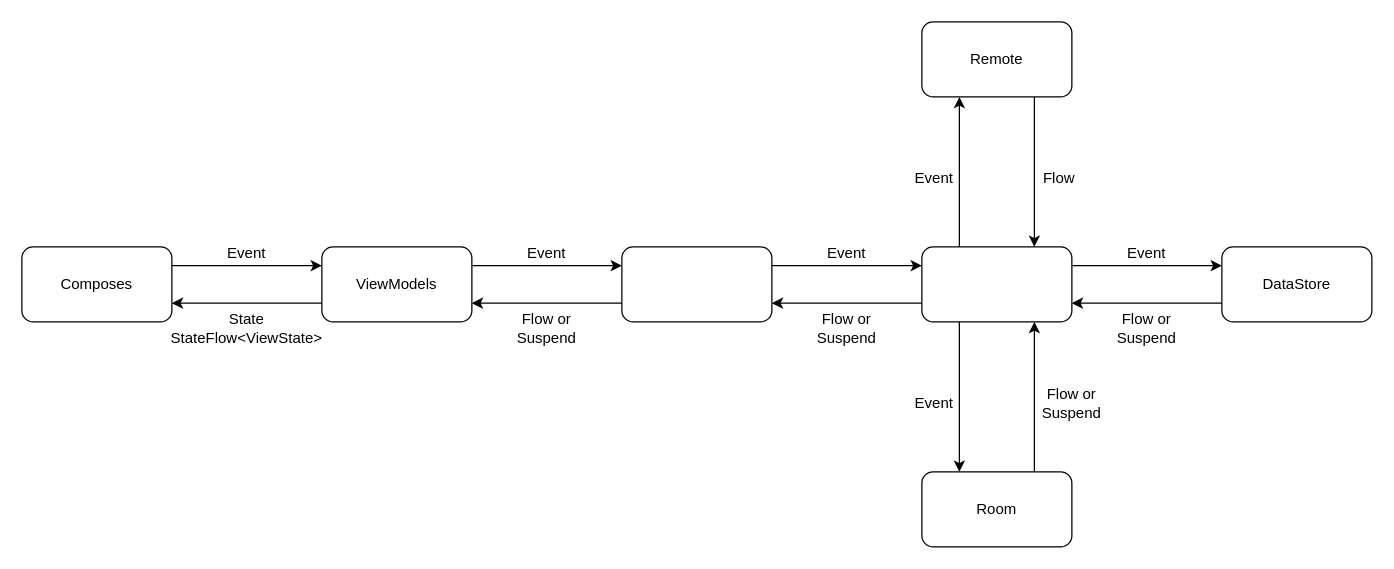
Image size: 1394x569. Some labels were removed from this diagram. The box of each missing label's shape, as (x1, y1, x2, y2) in pixels:
Repositories: (921, 246, 1072, 322)
UseCases: (621, 246, 772, 322)
